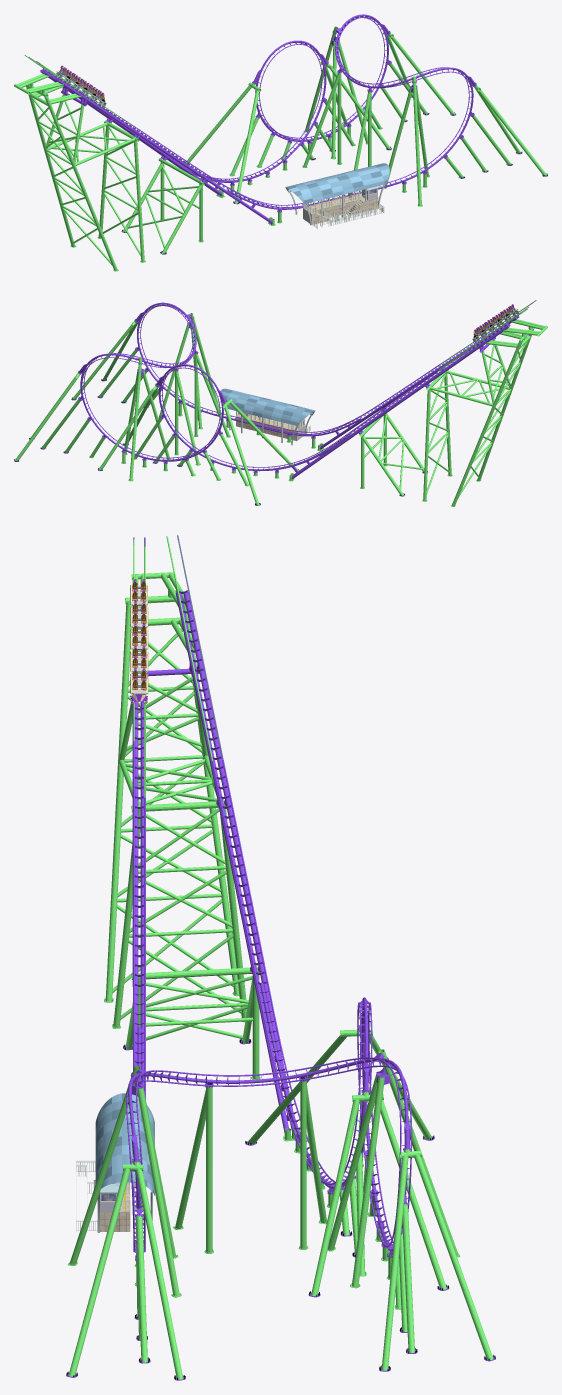
The model's file is boomerang-v5.glb.
The picture shows the model from 3 angles, top to bottom: view 1: azimuth 30°, elevation 25°; view 2: azimuth 150°, elevation 25°; view 3: azimuth 270°, elevation 25°; orthographic projection. The views are drawn at different scales.
Parts seen in each view (by area): view 1: WFC-20A Boomerang actual source; view 2: WFC-20A Boomerang actual source; view 3: WFC-20A Boomerang actual source.
Boxes of the visible parts, left/top/right/bottom form: WFC-20A Boomerang actual source: left=14, top=14, right=547, bottom=271; WFC-20A Boomerang actual source: left=14, top=300, right=547, bottom=506; WFC-20A Boomerang actual source: left=66, top=535, right=495, bottom=1380.
Size of the model in its own units: 99.67 by 40.96 by 39.77.
Materials: 38 (3 with a texture image).
